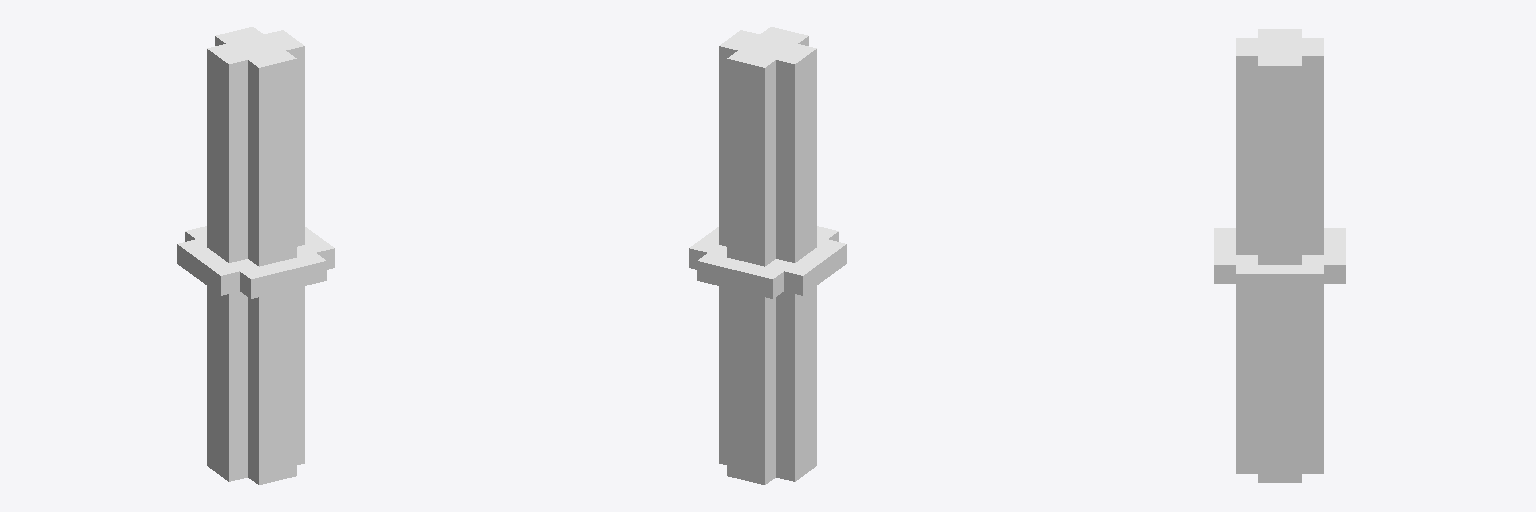
The model's file is red_pipe_20.obj.
3 views of the same model, side by side, from view 1: azimuth 30°, elevation 25°; view 2: azimuth 150°, elevation 25°; view 3: azimuth 270°, elevation 25° (orthographic).
Parts seen in each view (by area): view 1: object 1; view 2: object 1; view 3: object 1.
Part boxes in pixels (x1,y1,x2,y2): object 1: (177,27,334,484); object 1: (689,27,846,484); object 1: (1214,29,1345,482).
Bounding box in the file's own units: 0.6 × 2.1 × 0.6.